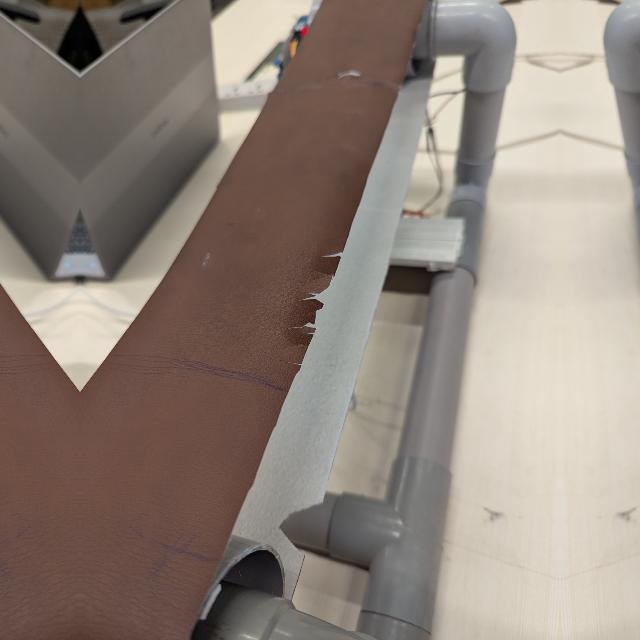edge_damage: (273, 226, 353, 381)
